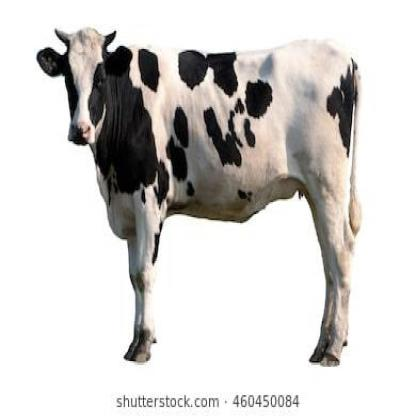cow: (36, 28, 362, 367)
